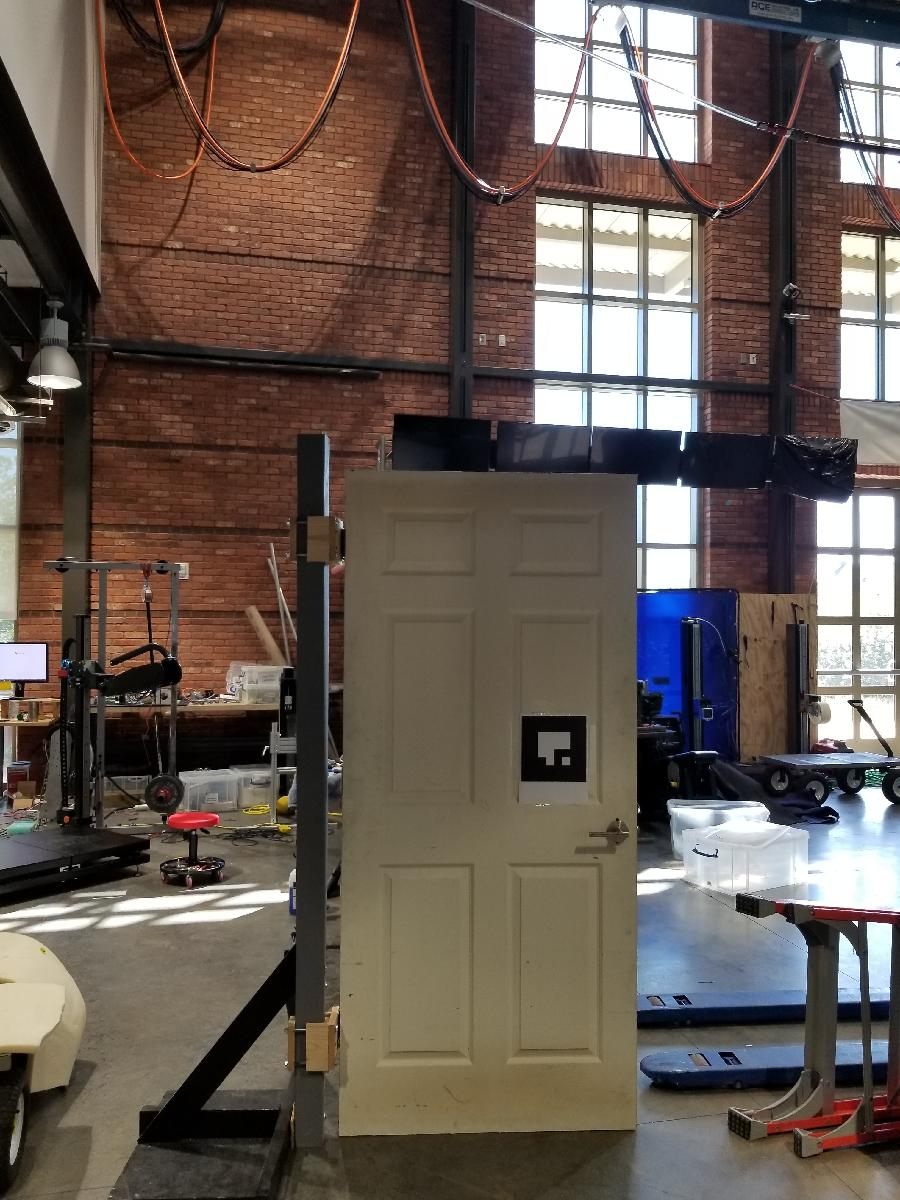door: (336, 466, 646, 1142)
doorHandle: (586, 812, 633, 861)
